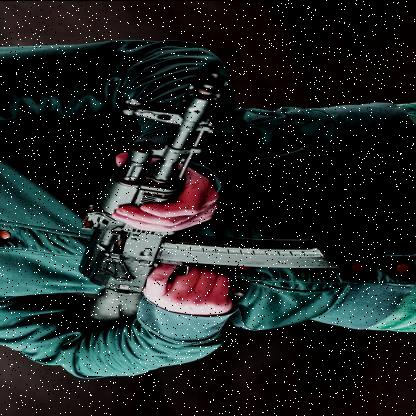rifle: (68, 72, 343, 331)
